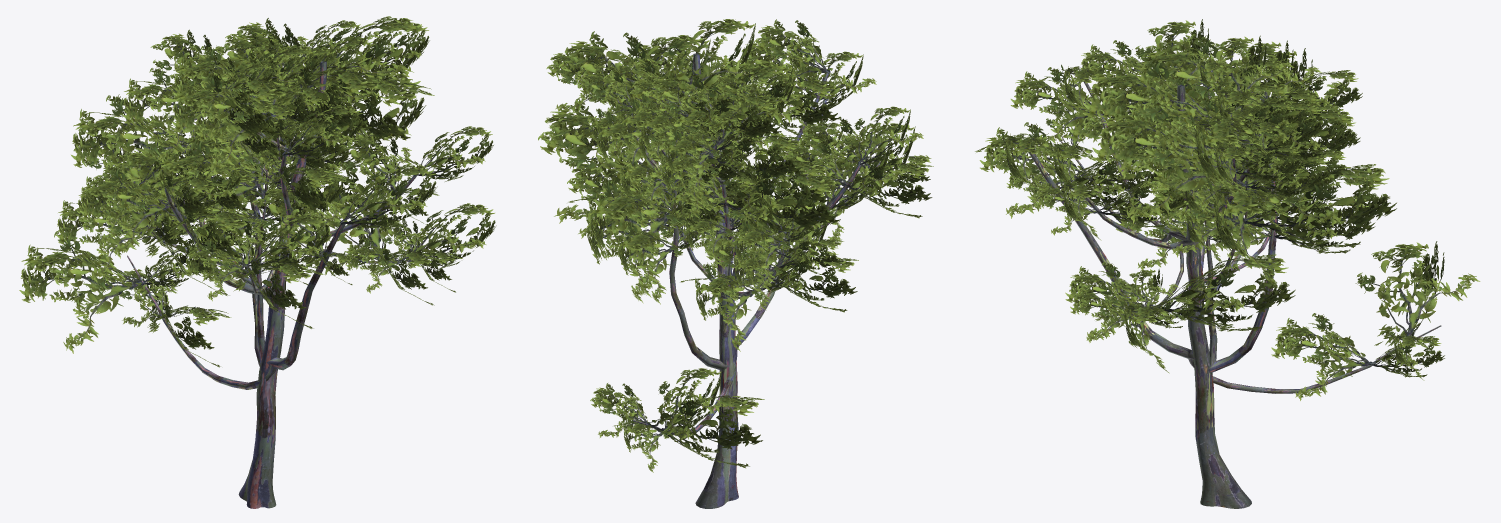
Rendered from Tree - Tree9 3-DmY9mYS2.glb.
3 views of the same model, side by side, from view 1: azimuth 30°, elevation 25°; view 2: azimuth 150°, elevation 25°; view 3: azimuth 270°, elevation 25° (orthographic). The views are drawn at different scales.
Parts seen in each view (by area): view 1: Tree9_3; view 2: Tree9_3; view 3: Tree9_3.
Boxes of the visible parts, box(x1,y1,x2,y2) form: Tree9_3: box(19, 16, 496, 508); Tree9_3: box(538, 19, 933, 508); Tree9_3: box(975, 19, 1480, 508).
Bounding box in the file's own units: 18.59 × 20.46 × 20.93.
Materials: 2 (2 with a texture image).
